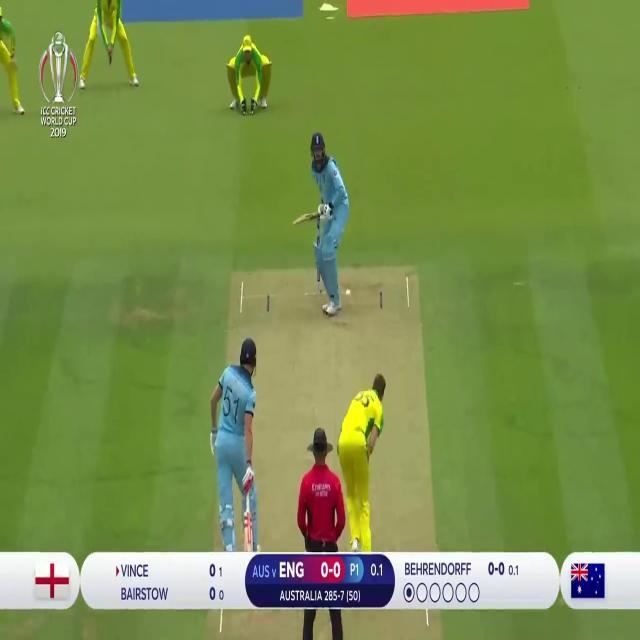ball: (344, 283, 354, 302)
